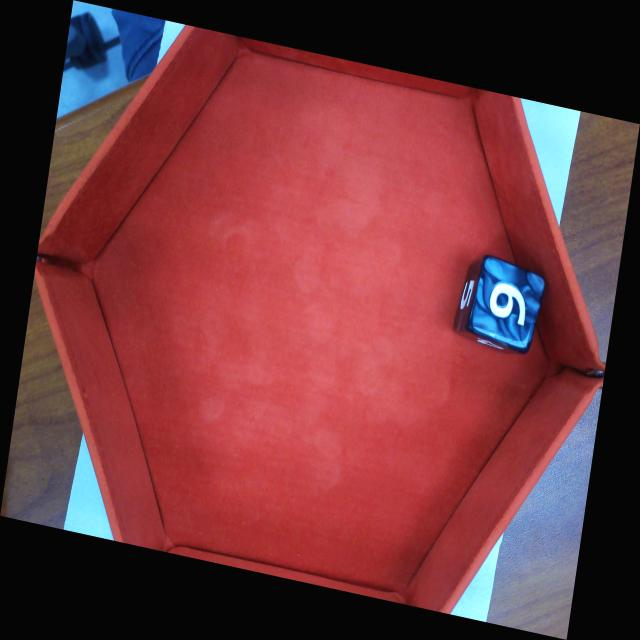dice: (466, 253, 549, 355)
